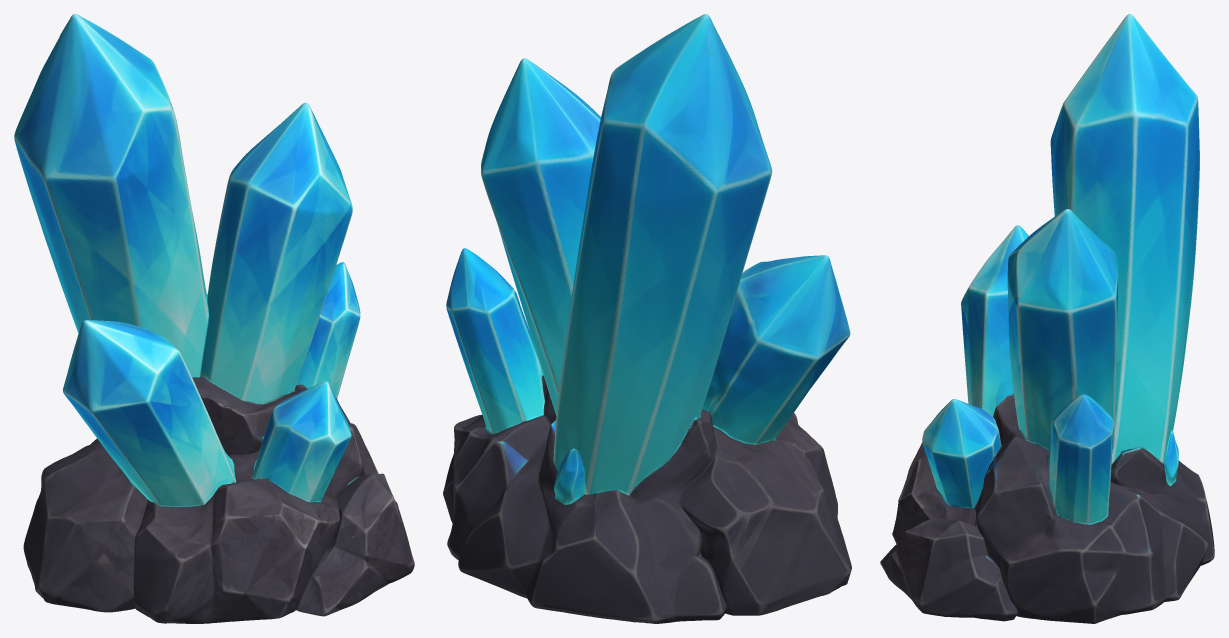
Rendered from Kristall.glb.
The picture shows the model from 3 angles, left to right: view 1: azimuth 30°, elevation 25°; view 2: azimuth 150°, elevation 25°; view 3: azimuth 270°, elevation 25°; orthographic projection. The views are drawn at different scales.
Size of the model in its own units: 1.27 by 1.9 by 1.16.
Materials: 1 (1 with a texture image).
